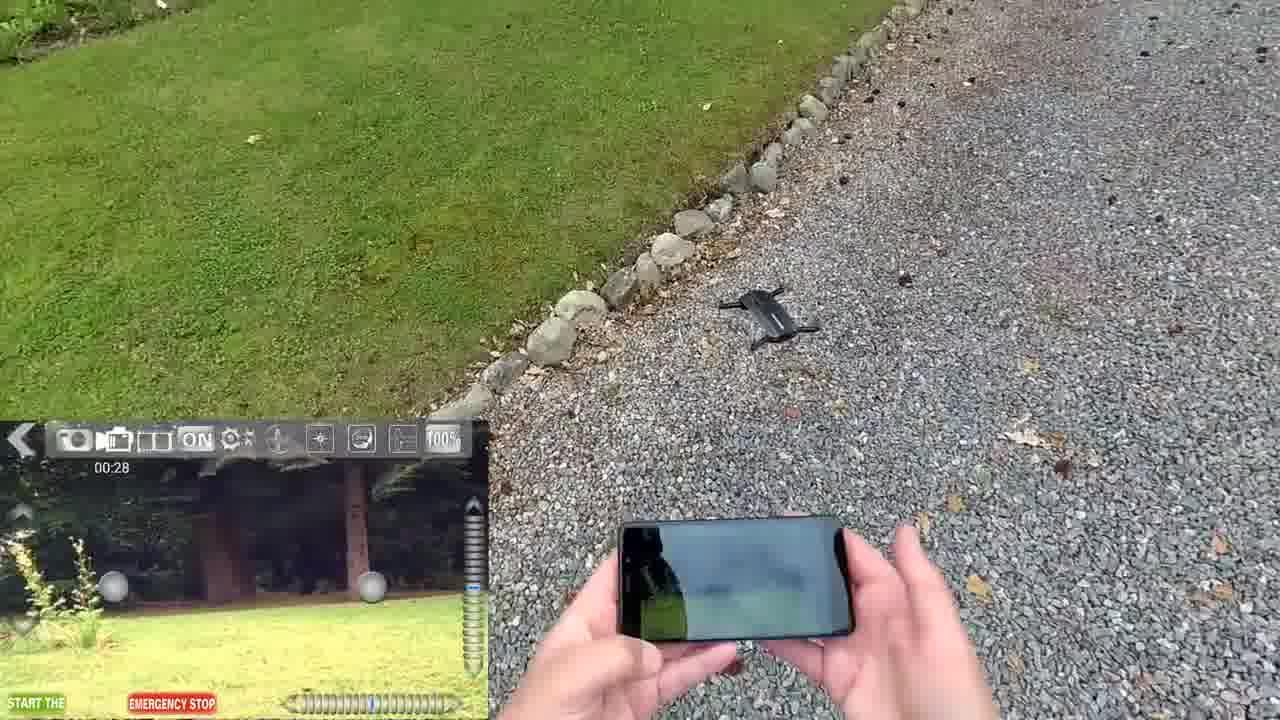drone: (709, 278, 834, 351)
